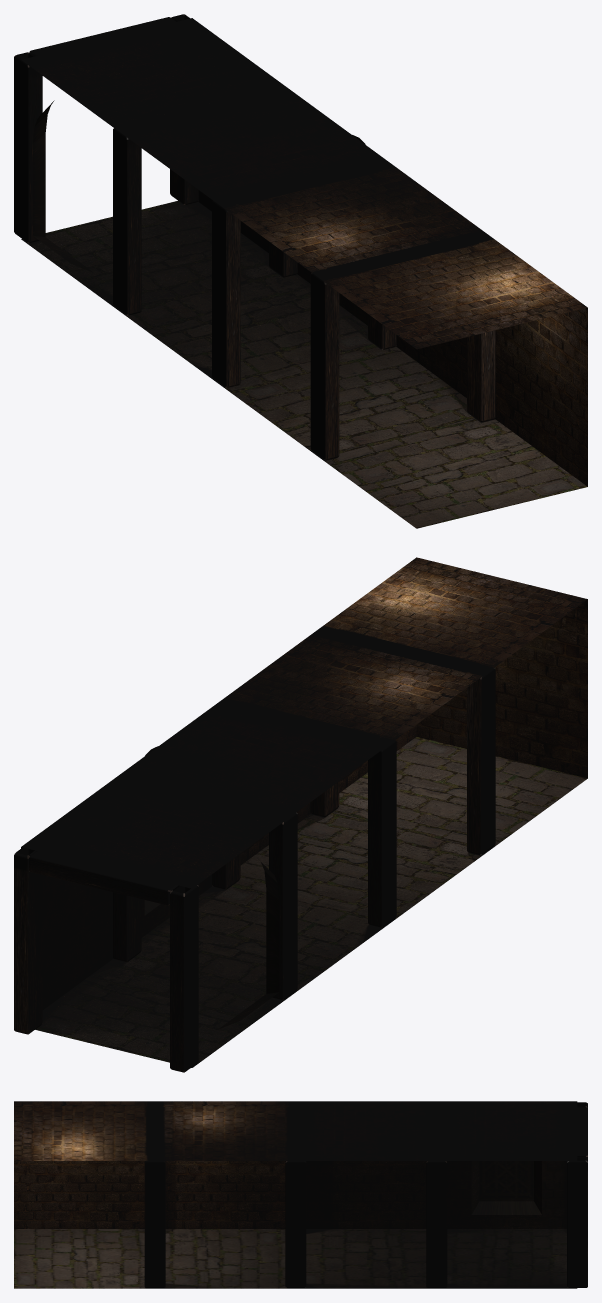
The model's file is castle-bake02.fbx.
The picture shows the model from 3 angles, top to bottom: view 1: azimuth 30°, elevation 25°; view 2: azimuth 150°, elevation 25°; view 3: azimuth 270°, elevation 25°; orthographic projection. The views are drawn at different scales.
Visible parts, largest first — view 1: teto02, chão 02, vigas 02, paredes 02; view 2: teto02, chão 02, vigas 02, paredes 02; view 3: teto02, paredes 02, chão 02, vigas 02.
Part boxes in pixels (x1,y1,x2,y2): teto02: (21,18,587,349); chão 02: (21,201,587,528); vigas 02: (14,14,495,460); paredes 02: (33,100,587,486); teto02: (21,557,587,888); chão 02: (35,736,587,1067); vigas 02: (14,668,495,1072); paredes 02: (21,599,587,1029); teto02: (14,1101,577,1160); paredes 02: (14,1161,566,1228); chão 02: (14,1229,577,1288); vigas 02: (144,1102,587,1287).
Bounding box in the file's own units: 243 × 200 × 815.
